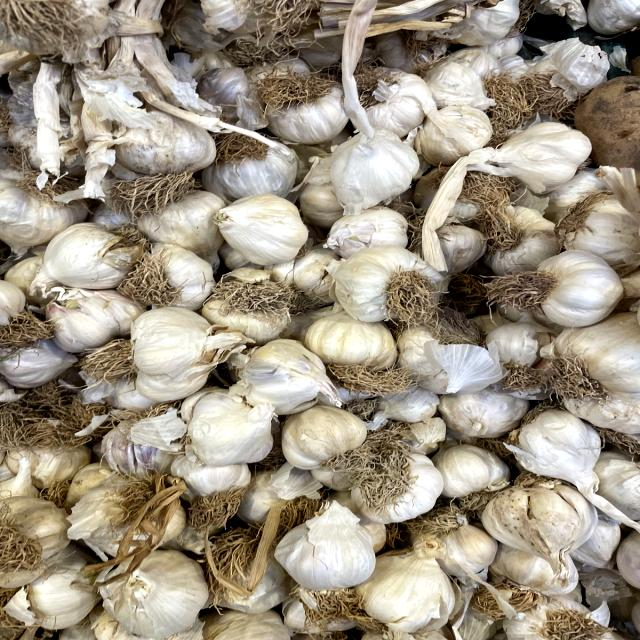garlic: (250, 494, 406, 590), (486, 235, 634, 333), (317, 98, 440, 209), (334, 422, 458, 528), (319, 240, 456, 334), (92, 299, 249, 378), (201, 183, 320, 271)
